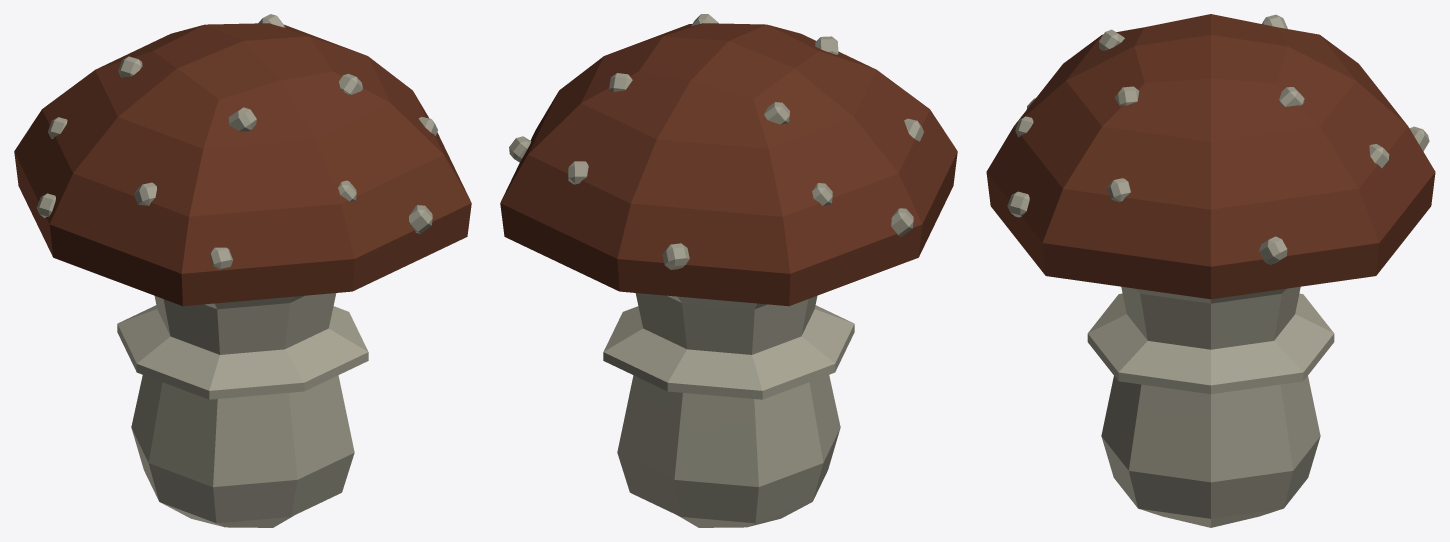
Rendered from mushroom_3.gltf.
3 views of the same model, side by side, from view 1: azimuth 30°, elevation 25°; view 2: azimuth 150°, elevation 25°; view 3: azimuth 270°, elevation 25° (orthographic).
Visible parts, largest first — view 1: mushroom_3; view 2: mushroom_3; view 3: mushroom_3.
Boxes of the visible parts, x1=… form: mushroom_3: x1=14, y1=14, x2=471, y2=527; mushroom_3: x1=500, y1=14, x2=957, y2=527; mushroom_3: x1=986, y1=14, x2=1435, y2=527.
Size of the model in its own units: 0.2449 by 0.2857 by 0.2444.
Materials: 1 (1 with a texture image).
